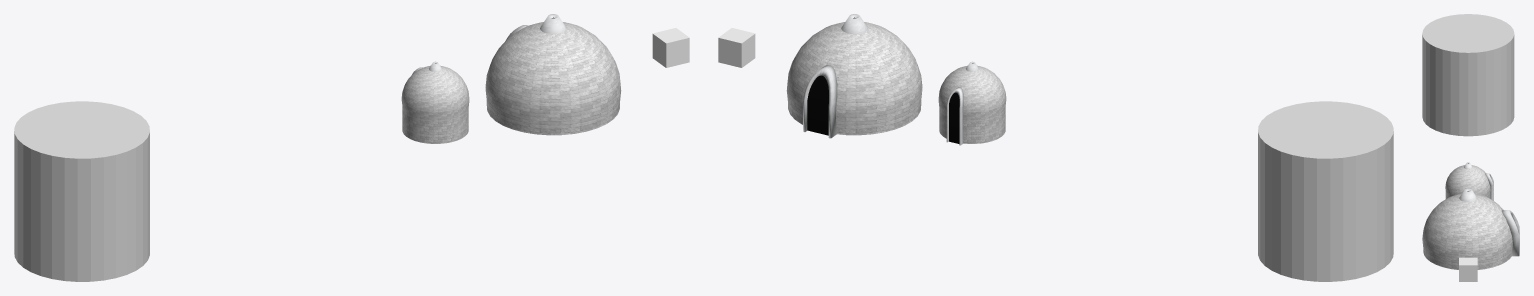
The model's file is winterHousing.fbx.
3 views of the same model, side by side, from view 1: azimuth 30°, elevation 25°; view 2: azimuth 150°, elevation 25°; view 3: azimuth 270°, elevation 25° (orthographic). The views are drawn at different scales.
Visible parts, largest first — view 1: Cylinder, igloo, igloo.001, Cube; view 2: Cylinder, igloo, igloo.001, iglooDoor, Cube, iglooDoor.001; view 3: Cylinder, igloo, igloo.001, Cube, iglooDoor, iglooChimney, iglooDoor.001.
Boxes of the visible parts, x1,y1,x2,y2 form: Cylinder: (14,101,149,281); igloo: (485,22,621,135); igloo.001: (401,65,469,143); Cube: (652,28,689,67); Cylinder: (1258,101,1393,281); igloo: (786,22,922,135); igloo.001: (938,65,1006,143); iglooDoor: (803,65,837,138); Cube: (718,28,755,67); iglooDoor.001: (946,87,963,145); Cylinder: (1422,14,1514,136); igloo: (1422,193,1512,269); igloo.001: (1445,165,1490,198); Cube: (1459,257,1477,281); iglooDoor: (1502,210,1519,256); iglooChimney: (1459,188,1477,201); iglooDoor.001: (1485,173,1493,200).
Size of the model in its own units: 1057 by 1000 by 5600.
